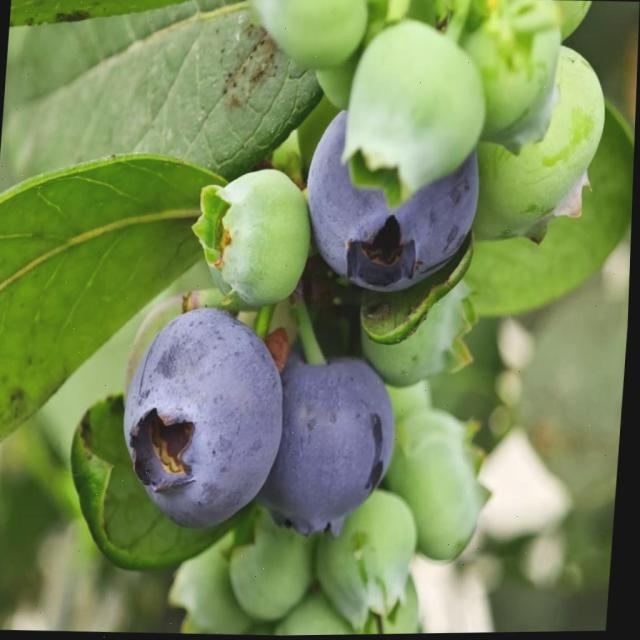RipeBlueBerry: (118, 304, 293, 532)
UnripeBlueBerry: (340, 18, 487, 205), (190, 167, 312, 305)
